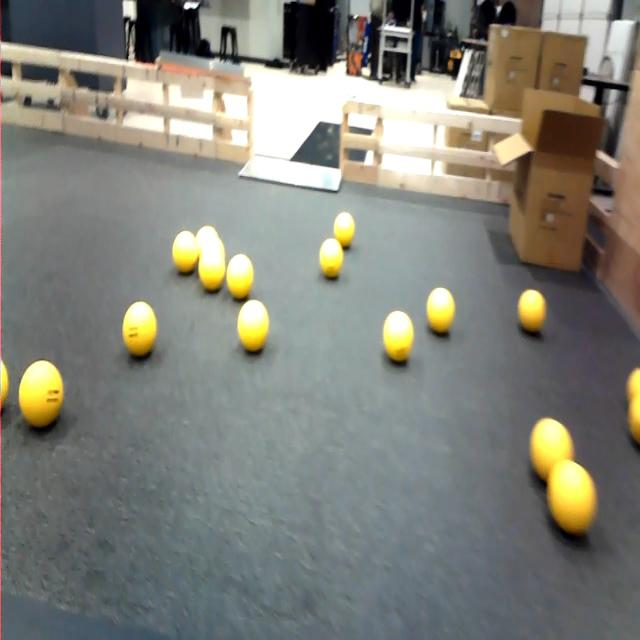fuel: (547, 460, 597, 535), (19, 360, 63, 428), (530, 418, 573, 480), (122, 302, 156, 357), (383, 310, 414, 363), (237, 300, 268, 352), (426, 288, 455, 334), (198, 243, 225, 291), (227, 255, 253, 300), (518, 290, 545, 333), (172, 231, 198, 273), (319, 239, 343, 278), (334, 212, 354, 248), (195, 225, 218, 252), (628, 395, 639, 444), (626, 368, 639, 401), (0, 360, 8, 410)
